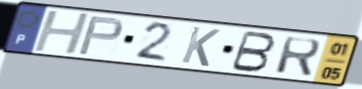2: (130, 21, 176, 66)
B: (227, 29, 278, 74)
H: (31, 10, 93, 56)
K: (179, 25, 223, 69)
P: (75, 15, 126, 57)
R: (273, 35, 323, 79)
